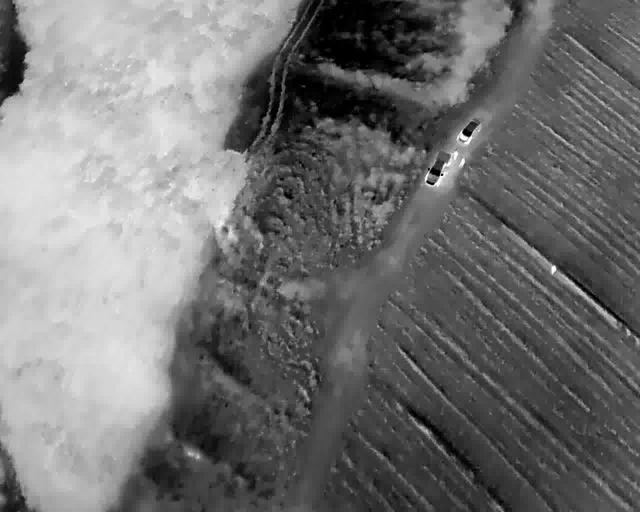car: (429, 149, 445, 187), (461, 116, 476, 145)
person: (550, 264, 556, 275), (459, 157, 465, 168), (452, 150, 458, 160)
